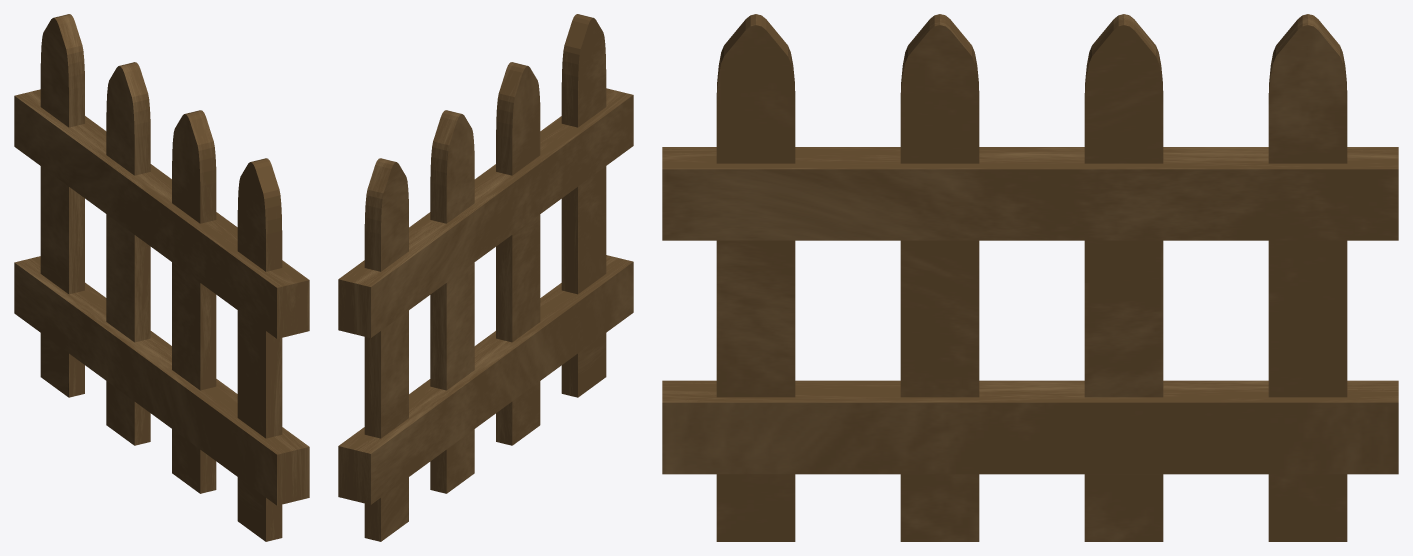
The model's file is fence.gltf.
3 views of the same model, side by side, from view 1: azimuth 30°, elevation 25°; view 2: azimuth 150°, elevation 25°; view 3: azimuth 270°, elevation 25° (orthographic). The views are drawn at different scales.
Visible parts, largest first — view 1: fence; view 2: fence; view 3: fence.
Part boxes in pixels (<box>): fence: <box>14,14,309,541</box>; fence: <box>338,14,633,541</box>; fence: <box>662,14,1398,541</box>.
Bounding box in the file's own units: 2 × 21.7 × 28.
1 material, 1 textured.
